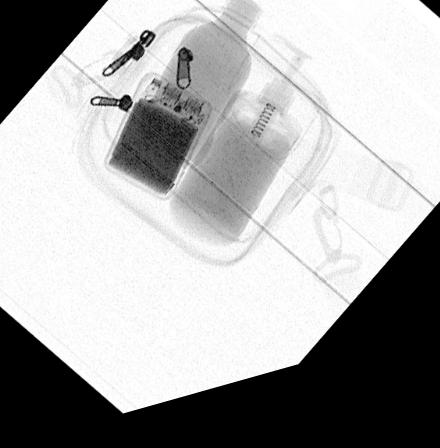Powerbank: (102, 79, 211, 211)
